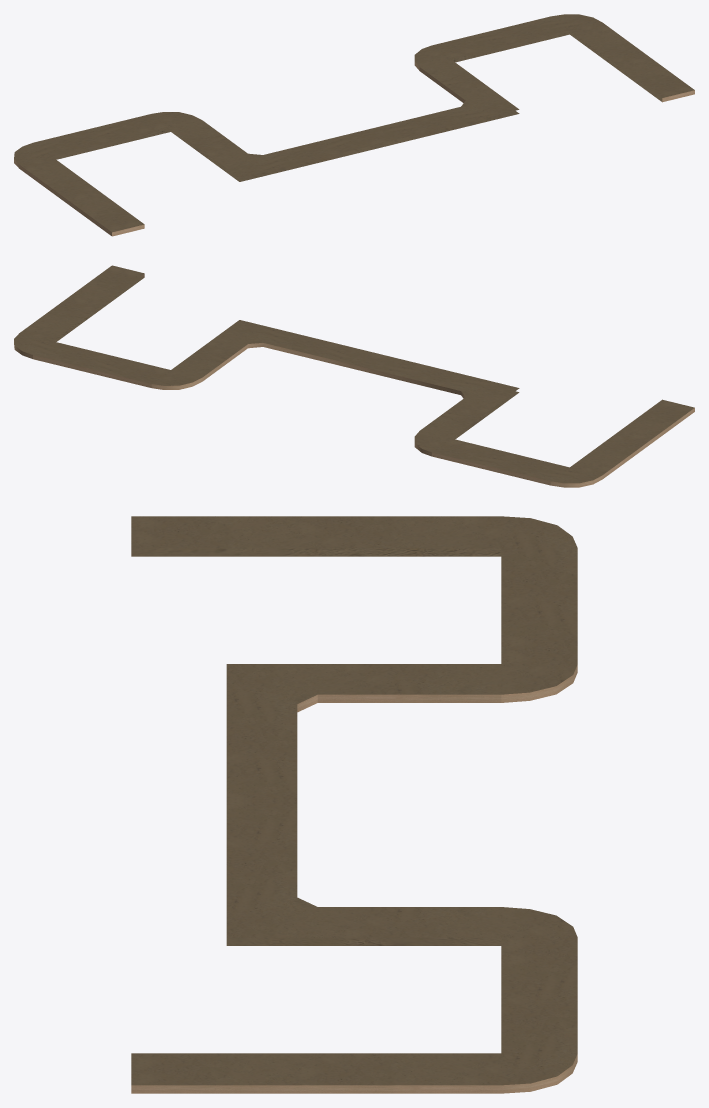
Rendered from Stage_Walkway.fbx.
The picture shows the model from 3 angles, top to bottom: view 1: azimuth 30°, elevation 25°; view 2: azimuth 150°, elevation 25°; view 3: azimuth 270°, elevation 25°; orthographic projection. The views are drawn at different scales.
Visible parts, largest first — view 1: Stage_Walkway; view 2: Stage_Walkway; view 3: Stage_Walkway.
Part boxes in pixels (<box>): Stage_Walkway: <box>14,14,694,236</box>; Stage_Walkway: <box>14,265,694,487</box>; Stage_Walkway: <box>131,516,577,1093</box>.
Size of the model in its own units: 87.47 by 0.5966 by 29.02.
